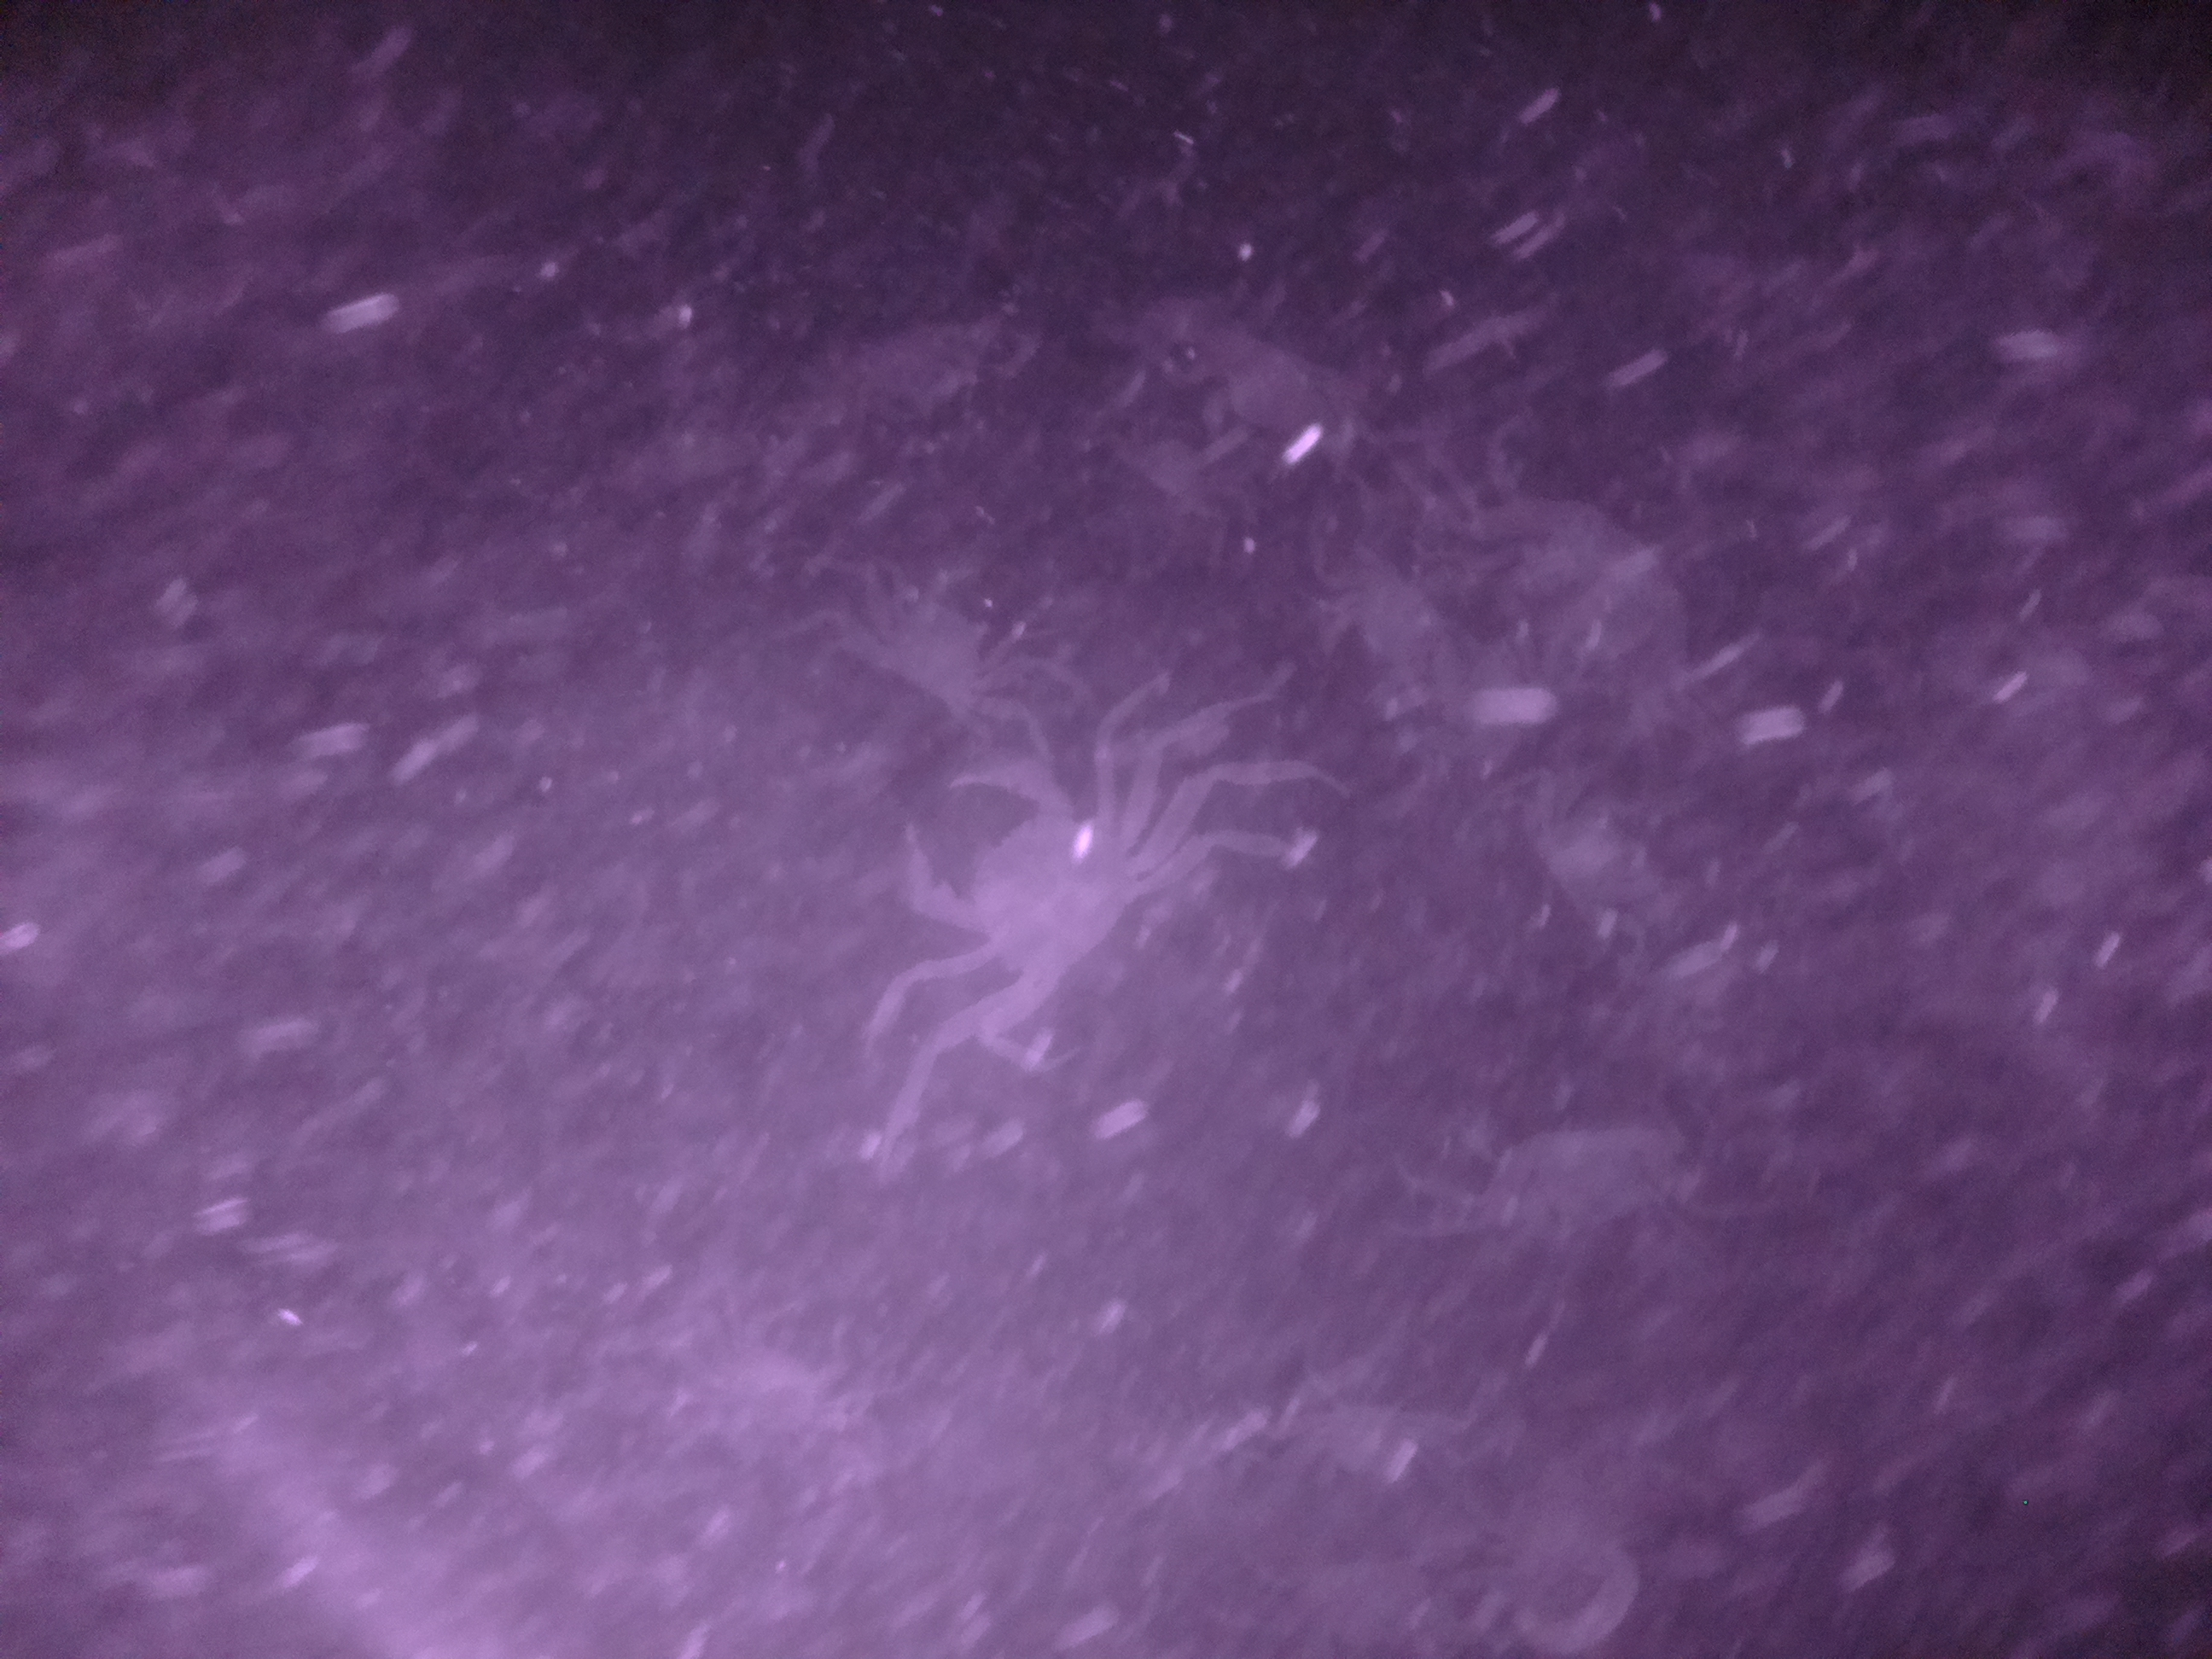Crab: (867, 741, 1172, 995)
